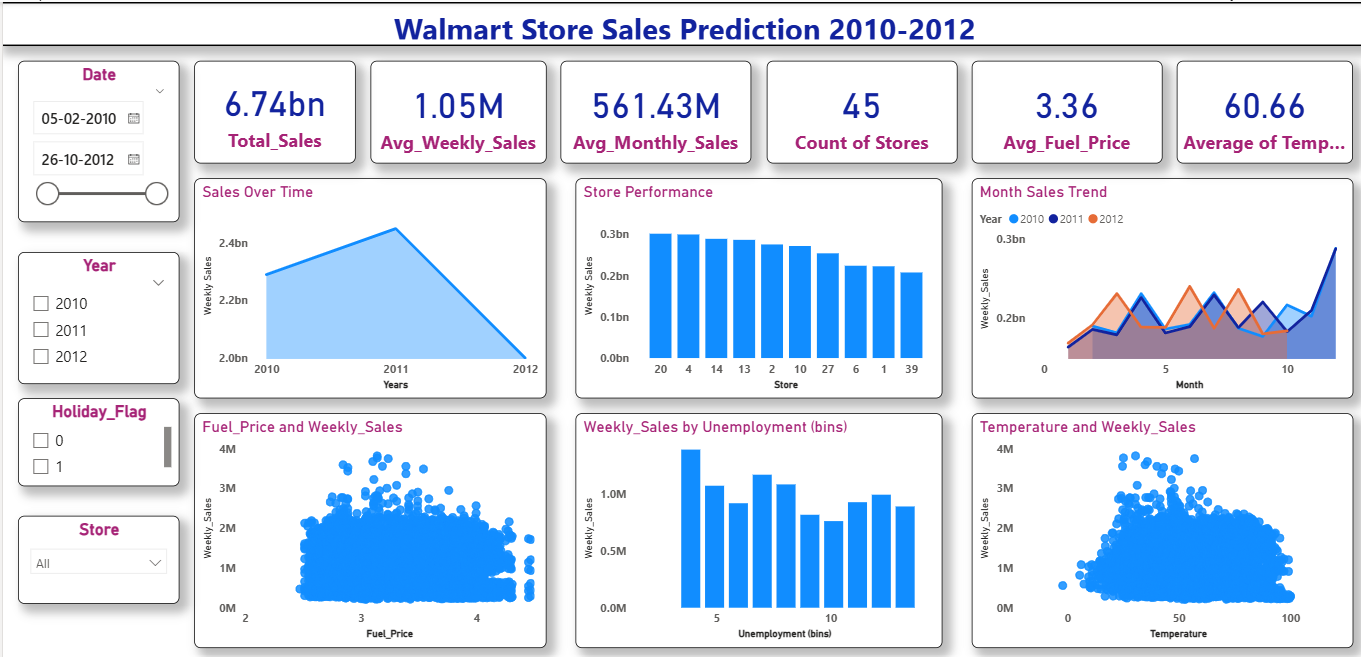

The page's visual inventory and layout, read from the dashboard file:
{"tool":"powerbi","page":{"name":"Page 1","canvas":[1500,720],"ordinal":0},"visuals":[{"type":"textbox","box":[-4,0,1504,48],"z":0},{"type":"lineChart","title":"Sales Over Time","fields":{"Category":["Full_data.Date.Variation.Date Hierarchy.Year","Full_data.Date.Variation.Date Hierarchy.Quarter","Full_data.Date.Variation.Date Hierarchy.Month","Full_data.Date.Variation.Date Hierarchy.Day"],"Y":["Sum(Full_data.Weekly_Sales)"]},"box":[208,192,384,240],"z":1000},{"type":"clusteredColumnChart","title":"Store Performance","fields":{"Y":["Sum(Full_data.Weekly_Sales)"],"Category":["Full_data.Store"]},"box":[624,192,400,240],"z":2000},{"type":"lineChart","title":"Month Sales Trend","fields":{"Category":["Full_data.Month"],"Y":["Sum(Full_data.Weekly_Sales)"],"Series":["Full_data.Year"]},"box":[1056,192,416,240],"z":3000},{"type":"card","fields":{"Values":["Full_data.Avg_Sales"]},"box":[400,64,192,112],"z":4000},{"type":"card","fields":{"Values":["Full_data.Total_Sales"]},"box":[208,64,176,112],"z":5000},{"type":"card","fields":{"Values":["Full_data.Avg_Fuel_Price"]},"box":[1056,64,208,112],"z":6000},{"type":"card","fields":{"Values":["Full_data.Avg_Monthly_Sales"]},"box":[608,64,208,112],"z":7000},{"type":"card","fields":{"Values":["Full_data.Stores"]},"box":[832,64,208,112],"z":8000},{"type":"card","fields":{"Values":["Avg(Full_data.Temperature)"]},"box":[1280,64,192,112],"z":9000},{"type":"slicer","title":"Date","fields":{"Values":["Full_data.Date"]},"box":[16,64,176,176],"z":10000},{"type":"scatterChart","fields":{"X":["Full_data.Fuel_Price"],"Y":["Full_data.Weekly_Sales"]},"box":[208,448,384,256],"z":11000},{"type":"clusteredColumnChart","fields":{"Category":["Full_data.Unemployment (bins)"],"Y":["Avg(Full_data.Weekly_Sales)"]},"box":[624,448,400,256],"z":12000},{"type":"slicer","title":"Store","fields":{"Values":["Full_data.Store"]},"box":[16,560,176,96],"z":13000},{"type":"slicer","title":"Year","fields":{"Values":["Full_data.Year"]},"box":[16,272,176,144],"z":14000},{"type":"slicer","title":"Holiday_Flag","fields":{"Values":["Full_data.Holiday_Flag"]},"box":[16,432,176,96],"z":15000},{"type":"scatterChart","fields":{"X":["Full_data.Temperature"],"Y":["Full_data.Weekly_Sales"]},"box":[1056,448,416,256],"z":16000}]}

Visuals, with their boxes in screenshot pixels (x1, y1, x2, y2), scaled from the page's 1500x720 canvas onto the 1361x657 screenshot:
textbox: x1=0, y1=0, x2=1360, y2=44
"Sales Over Time" lineChart: x1=189, y1=175, x2=537, y2=394
"Store Performance" clusteredColumnChart: x1=566, y1=175, x2=929, y2=394
"Month Sales Trend" lineChart: x1=958, y1=175, x2=1336, y2=394
card - Full_data.Avg_Sales: x1=363, y1=58, x2=537, y2=161
card - Full_data.Total_Sales: x1=189, y1=58, x2=348, y2=161
card - Full_data.Avg_Fuel_Price: x1=958, y1=58, x2=1147, y2=161
card - Full_data.Avg_Monthly_Sales: x1=552, y1=58, x2=740, y2=161
card - Full_data.Stores: x1=755, y1=58, x2=944, y2=161
card - Avg(Full_data.Temperature): x1=1161, y1=58, x2=1336, y2=161
"Date" slicer: x1=15, y1=58, x2=174, y2=219
scatterChart - Full_data.Fuel_Price x Full_data.Weekly_Sales: x1=189, y1=409, x2=537, y2=642
clusteredColumnChart - Full_data.Unemployment (bins) x Avg(Full_data.Weekly_Sales): x1=566, y1=409, x2=929, y2=642
"Store" slicer: x1=15, y1=511, x2=174, y2=599
"Year" slicer: x1=15, y1=248, x2=174, y2=380
"Holiday_Flag" slicer: x1=15, y1=394, x2=174, y2=482
scatterChart - Full_data.Temperature x Full_data.Weekly_Sales: x1=958, y1=409, x2=1336, y2=642
